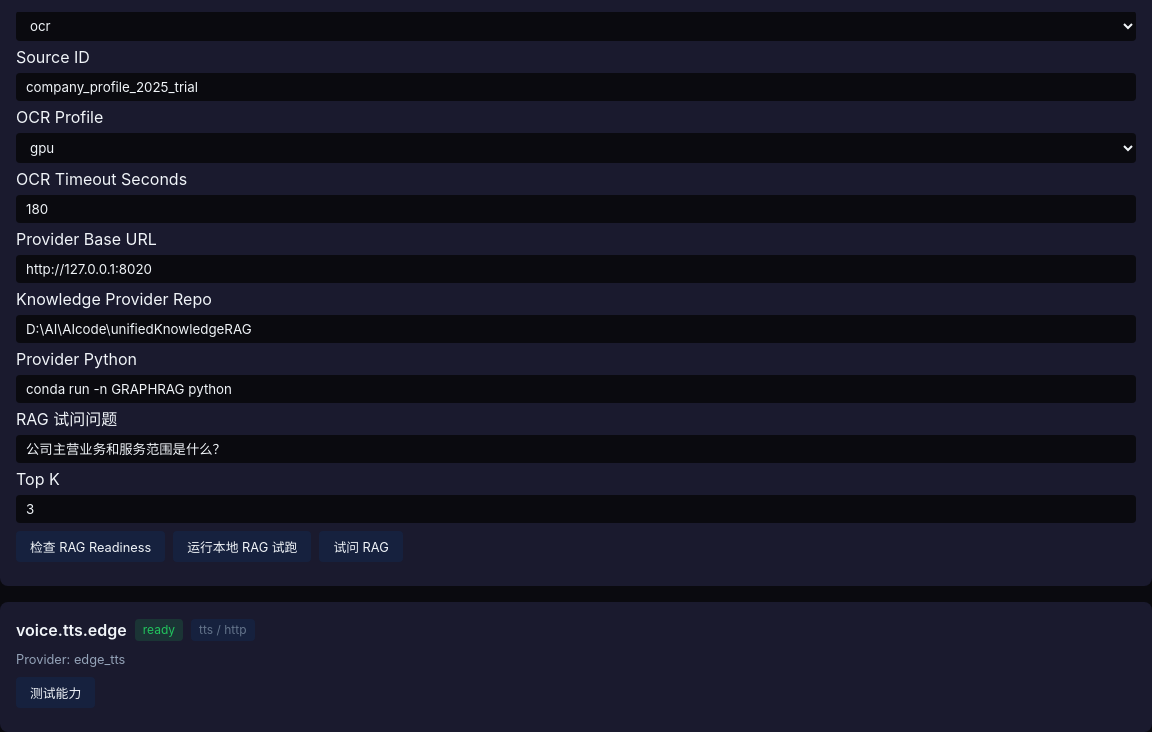
it: CapabilityProviderDiagnosticsPanel › runs local document rag question trial and displays answer citations
Step 1. Replace the text in the field with test id "document-rag-question" with "公司主营业务是什么？" → [576, 449], box [16,435,1136,463]
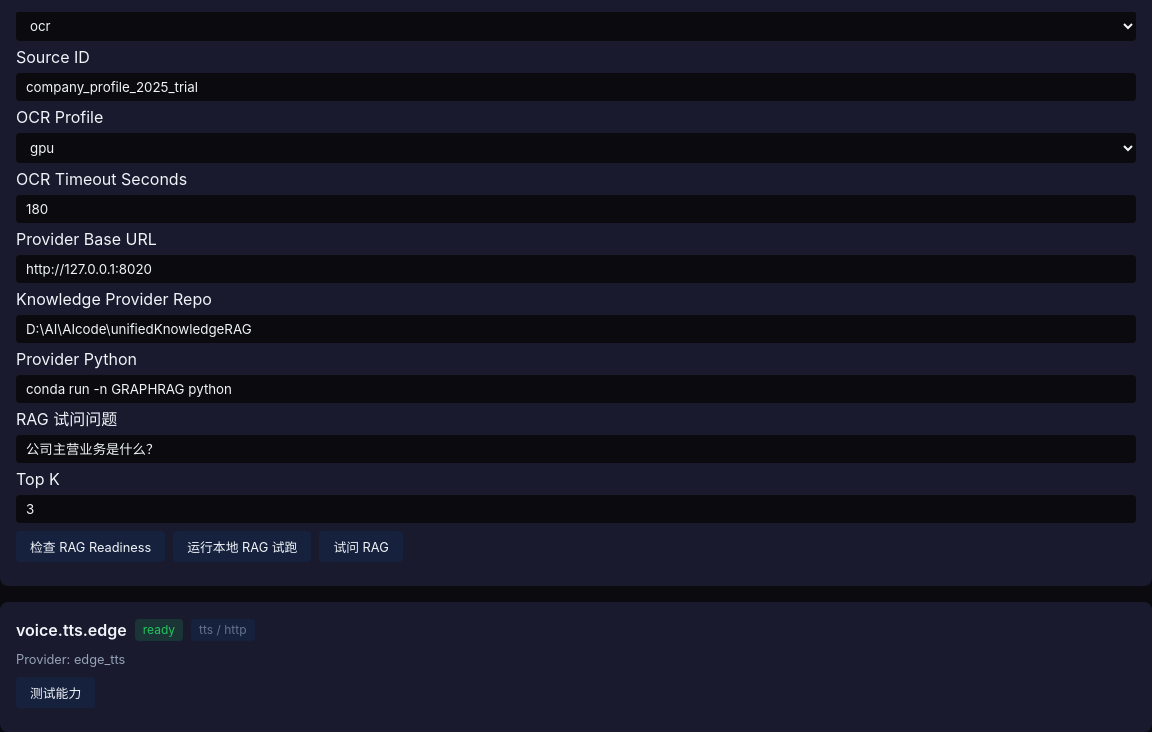
Step 2. Replace the text in the number field with test id "document-rag-top-k" with "2" → [576, 509], box [16,495,1136,523]
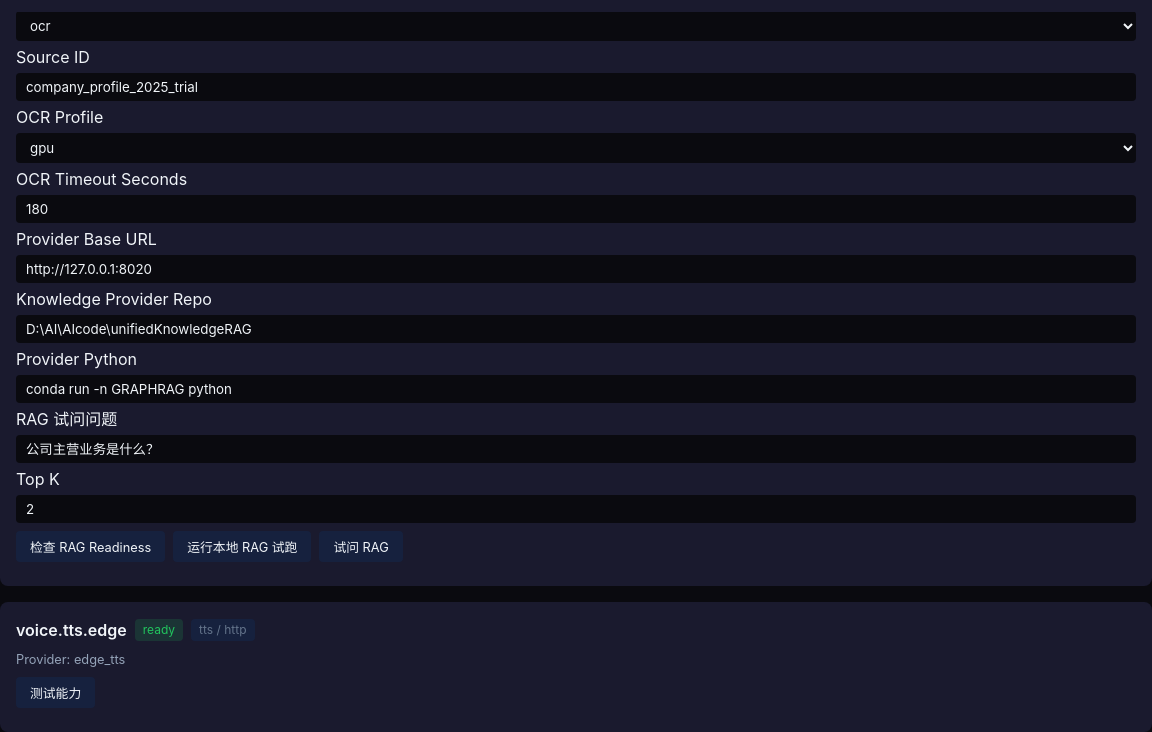
Step 3. Click the button with test id "document-rag-run-question" → [361, 546], box [319,531,403,562]
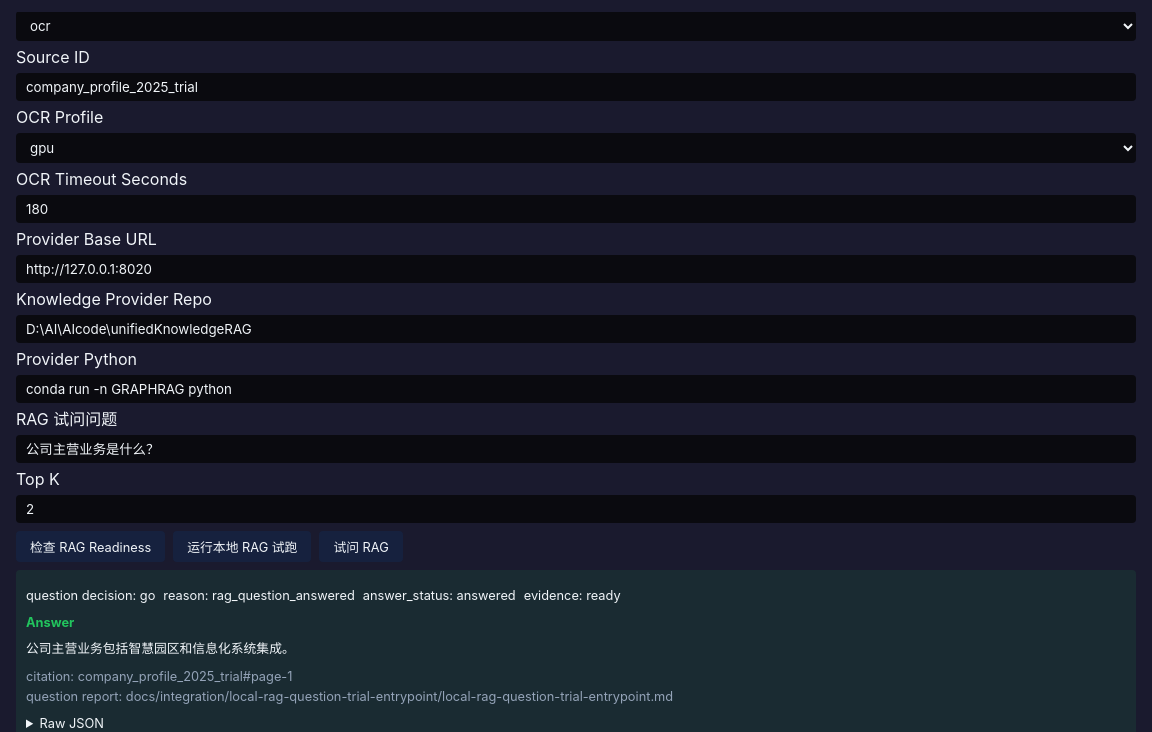
Now the text "question decision: go" is shown, box [26,586,155,605]
Now the text "answer_status: answered" is shown, box [363,586,516,605]
Now the text "公司主营业务包括智慧园区和信息化系统集成。" is shown, box [26,642,295,657]
